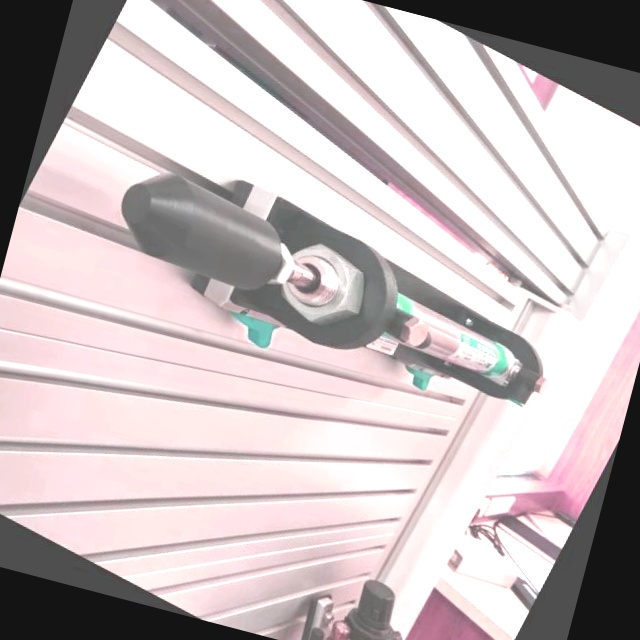double acting pneumatic cylinder: (57, 119, 597, 490)
